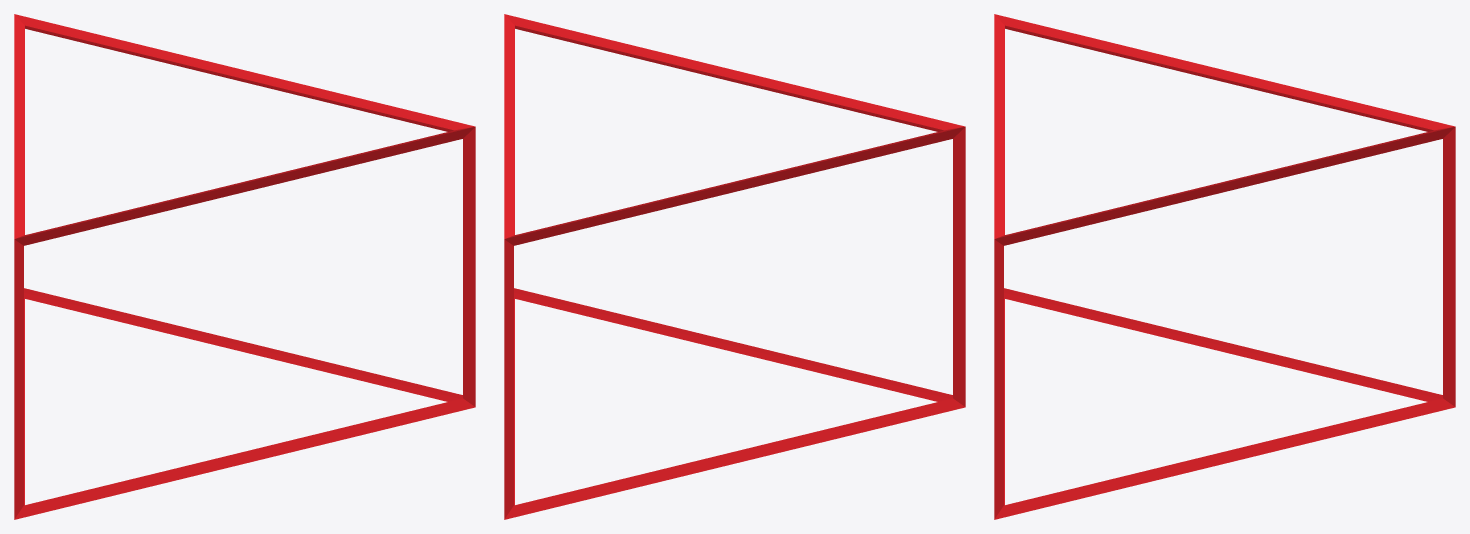
3 renders of one model, left to right at view 1: azimuth 30°, elevation 25°; view 2: azimuth 150°, elevation 25°; view 3: azimuth 270°, elevation 25°, orthographic.
Parts seen in each view (by area): view 1: 三角柱(線框); view 2: 三角柱(線框); view 3: 三角柱(線框).
Boxes of the visible parts, x1,y1,x2,y2 form: 三角柱(線框): [14, 14, 475, 519]; 三角柱(線框): [504, 14, 965, 519]; 三角柱(線框): [994, 14, 1455, 519].
Bounding box in the file's own units: 1.77 × 1.03 × 1.53.
